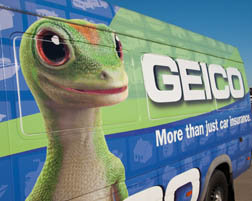geico: (137, 47, 246, 107)
